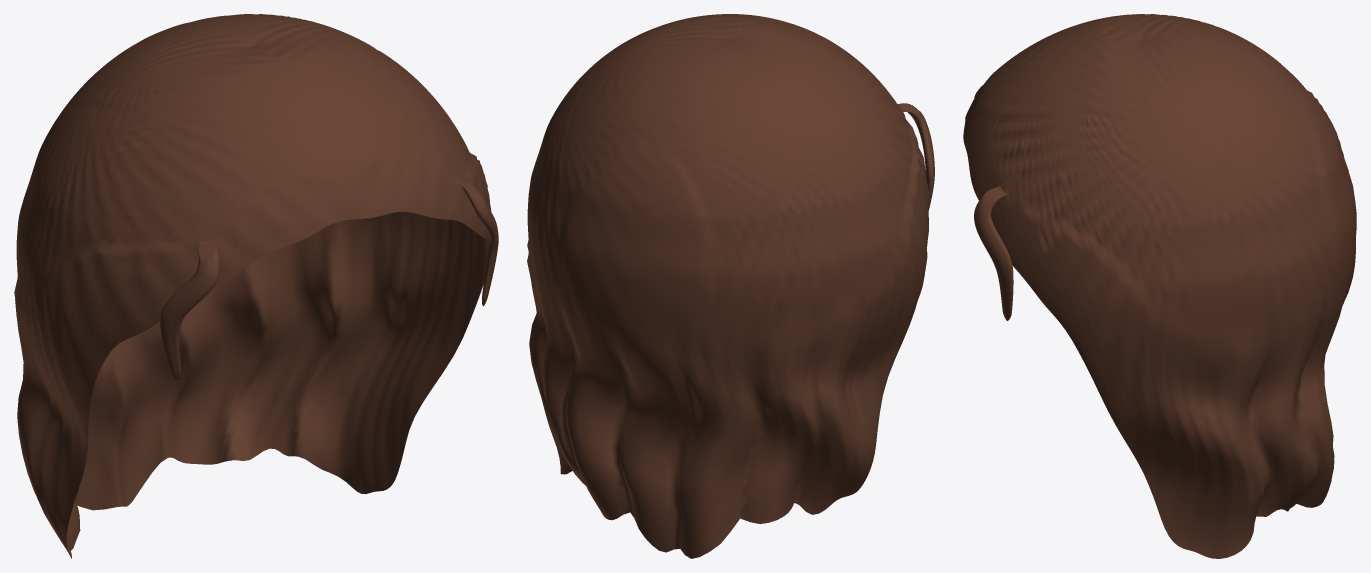
File: space-buns-cap.glb
3 renders of one model, left to right at view 1: azimuth 30°, elevation 25°; view 2: azimuth 150°, elevation 25°; view 3: azimuth 270°, elevation 25°, orthographic. The views are drawn at different scales.
Parts seen in each view (by area): view 1: 226 hair / Hair / chestnut226.002; view 2: 226 hair / Hair / chestnut226.002; view 3: 226 hair / Hair / chestnut226.002.
Boxes of the visible parts, box(x1,y1,x2,y2) form: 226 hair / Hair / chestnut226.002: box(14, 14, 498, 558); 226 hair / Hair / chestnut226.002: box(527, 14, 934, 558); 226 hair / Hair / chestnut226.002: box(963, 14, 1356, 558).
Size of the model in its own units: 0.8048 by 0.965 by 0.7316.
